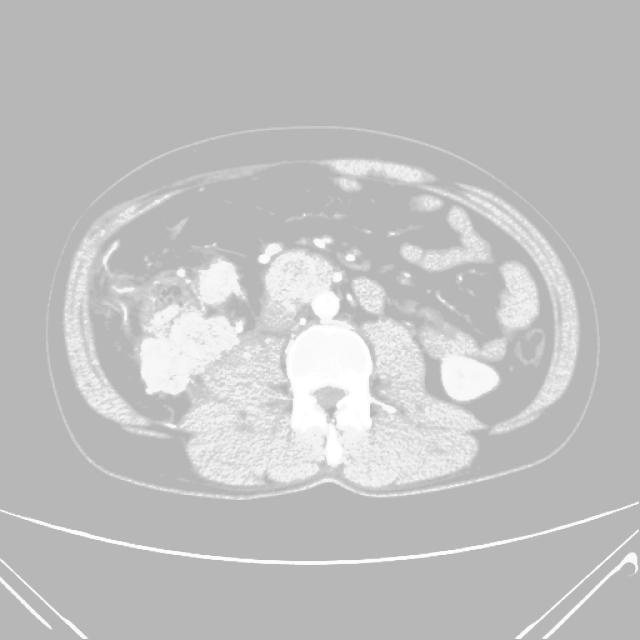TUMOR: (80, 204, 520, 457)
